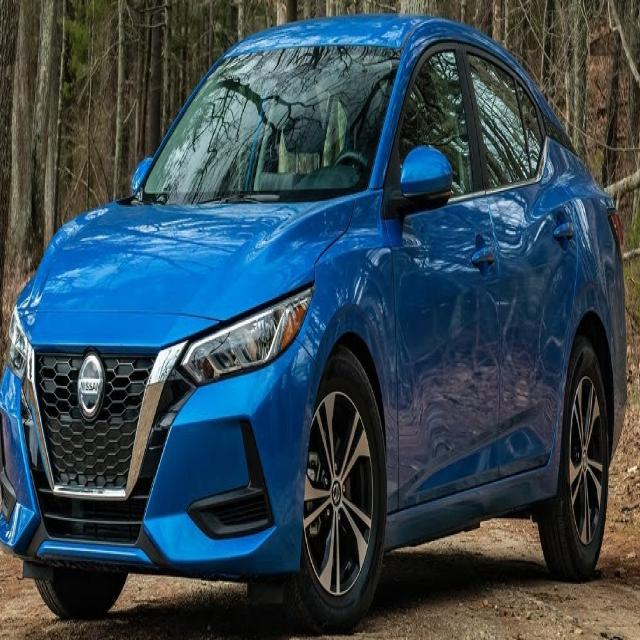blue: (0, 14, 628, 624)
